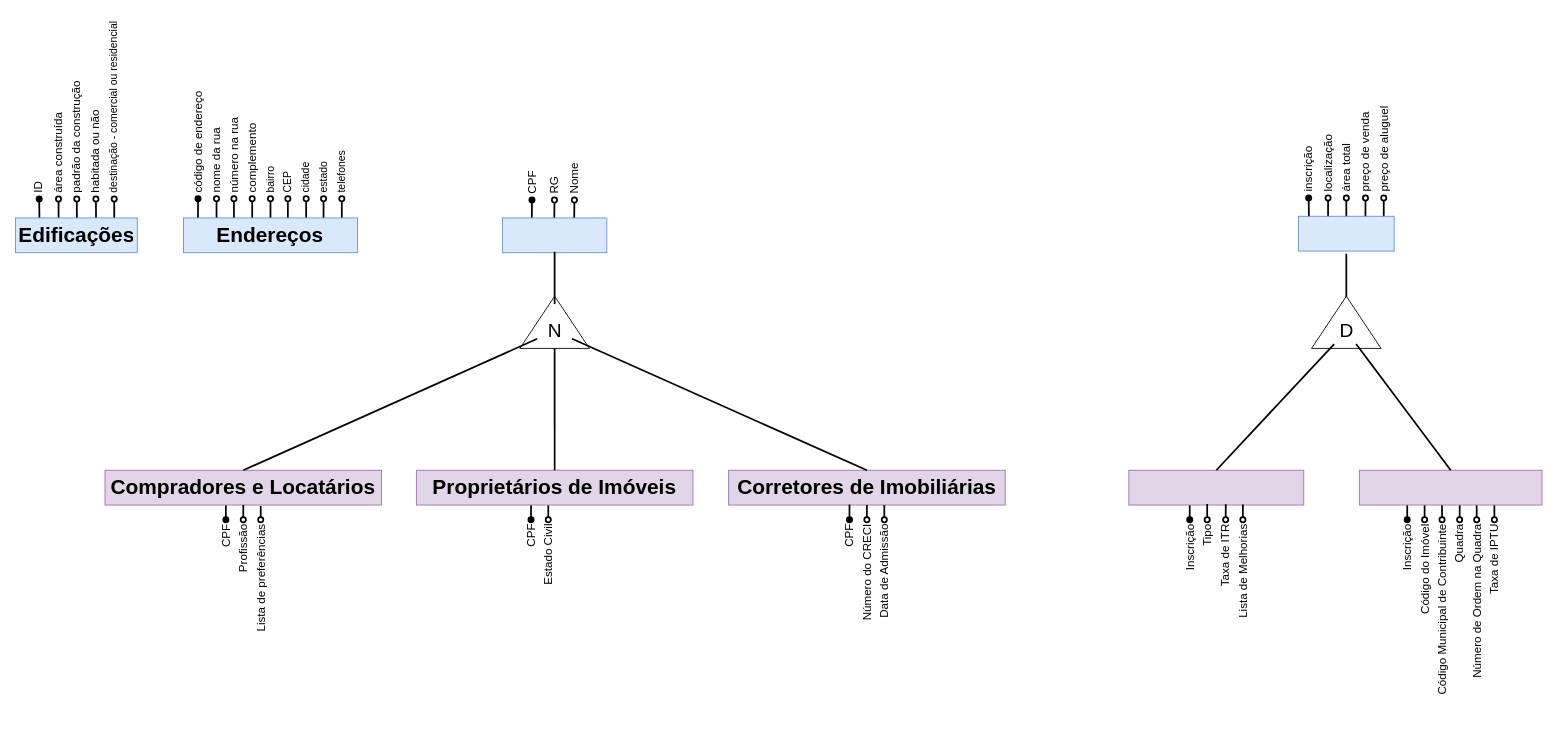
The diagram is 1557 pixels wide and 746 high, and some of its shapes have lost their labels. Each missing label, with the centre of its shape:
Imóveis: the point at 1346,233
Imóveis Rurais: the point at 1216,487
Imóveis Urbanos: the point at 1450,487
Pessoas: the point at 554,235
